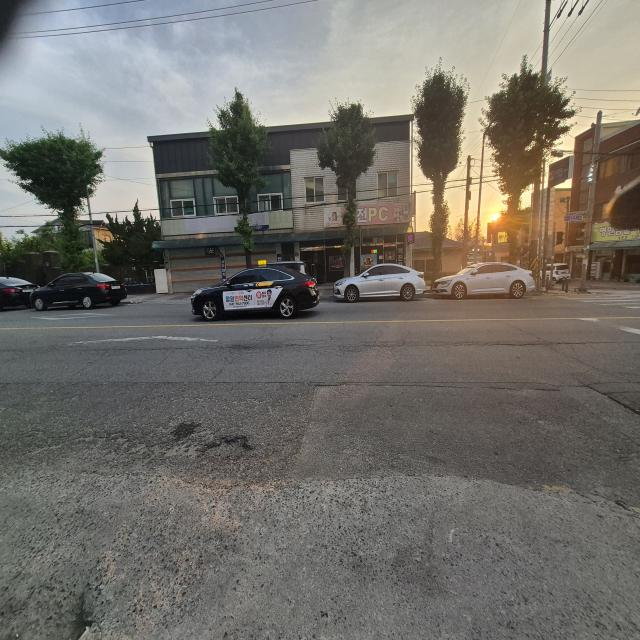car: (188, 265, 320, 321), (429, 261, 533, 300), (28, 271, 125, 309), (336, 264, 416, 302), (0, 274, 39, 310), (542, 259, 576, 283)
